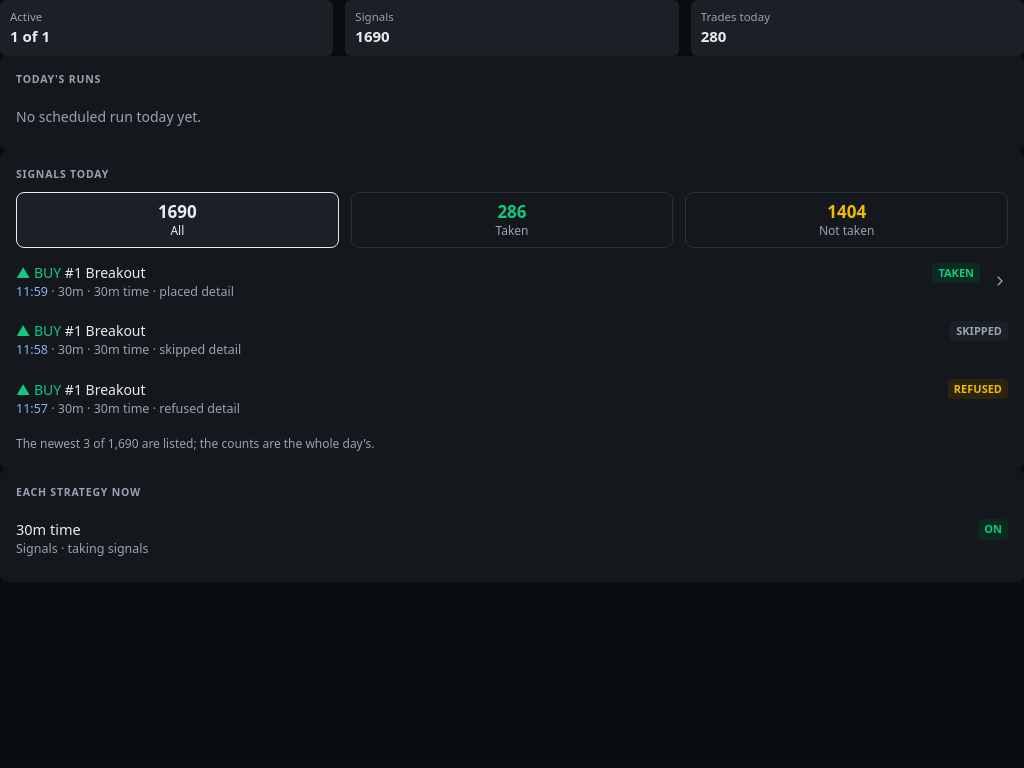
StrategiesScreen: the day's signals in three tabs › [critical] a day longer than the rows: every count is the server's over the whole day, and the list says it is the newest
Check: the button "All 1690" is shown, box [16,192,339,248]
Check: the button "Not taken 1404" is shown, box [685,192,1008,248]
Click the button "Taken 286".
click(512, 220)  # box [351,192,673,248]
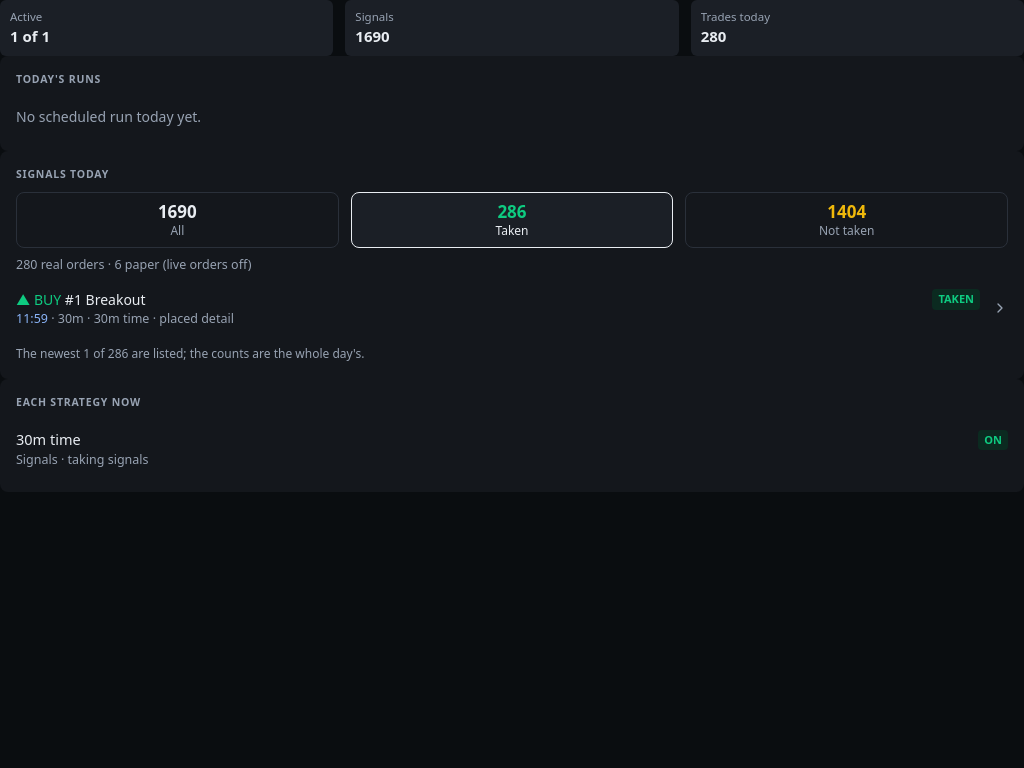
Check: the text "280 real orders · 6 paper (live orders off)" is shown, box [16,256,252,273]
Click the button "Not taken 1404".
click(847, 220)  # box [685,192,1008,248]
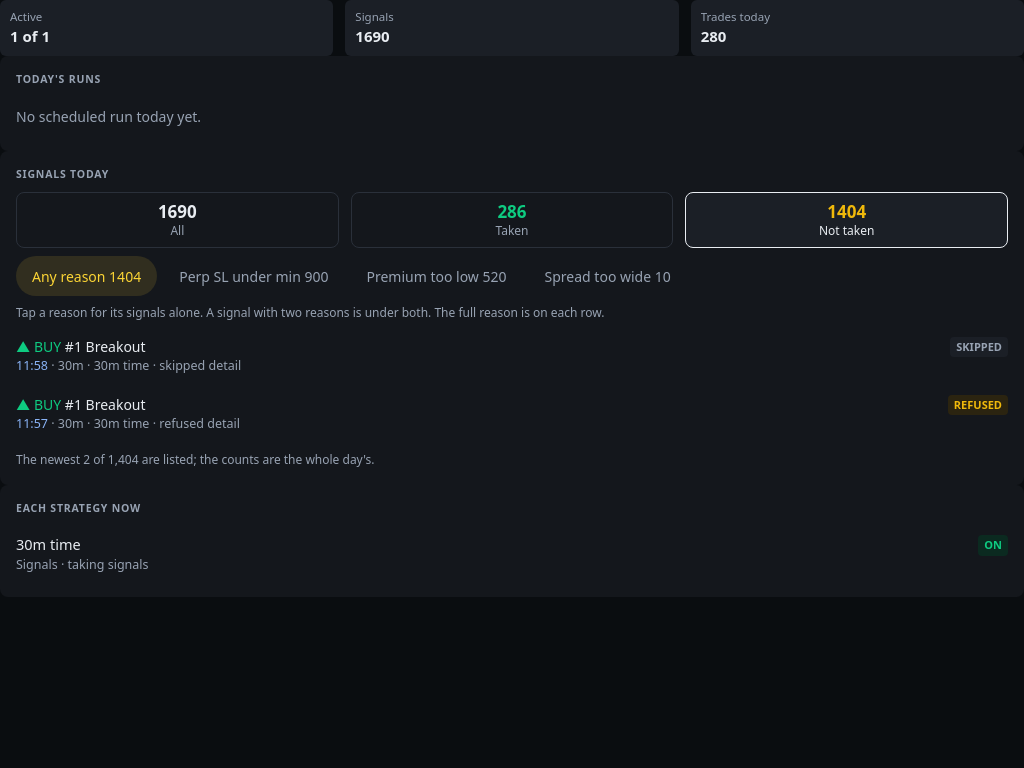
Check: the buttons read "Any reason 1404", "Perp SL under min 900", "Premium too low 520", "Spread too wide 10", in this order
Click the button "Premium too low 520".
click(437, 276)  # box [350,256,523,296]
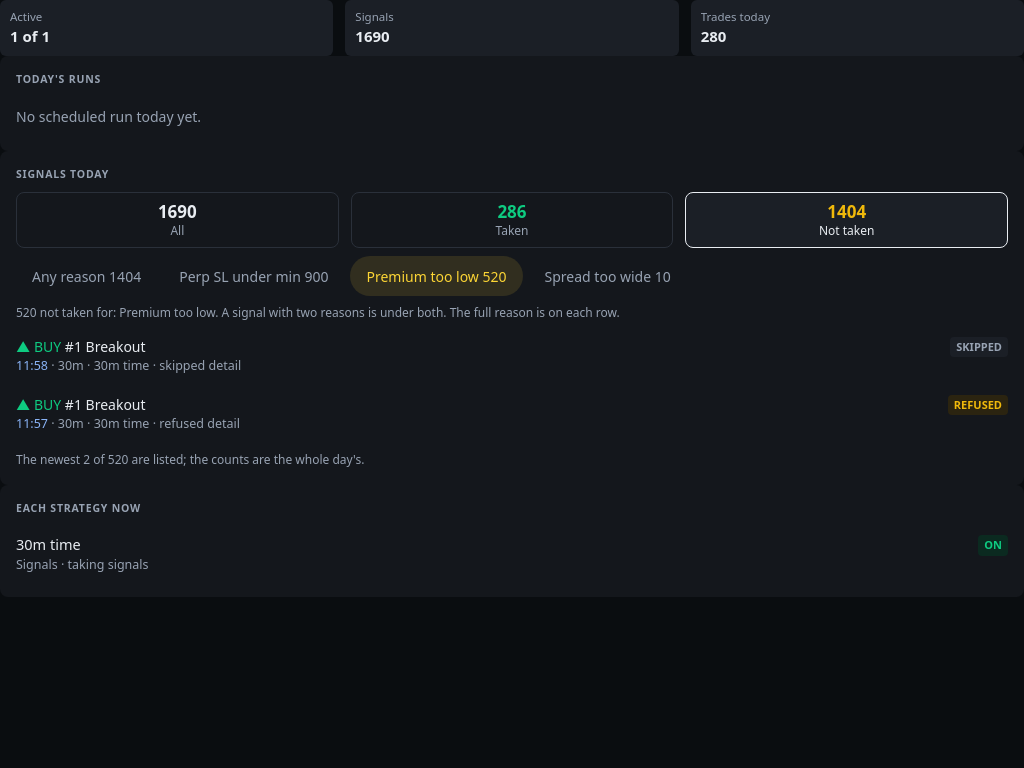
Check: the text "520 not taken for: Premium too low." is shown, box [16,304,218,321]
Check: the text "The newest 2 of 520 are listed; the counts are the whole day's." is shown, box [16,451,364,468]
